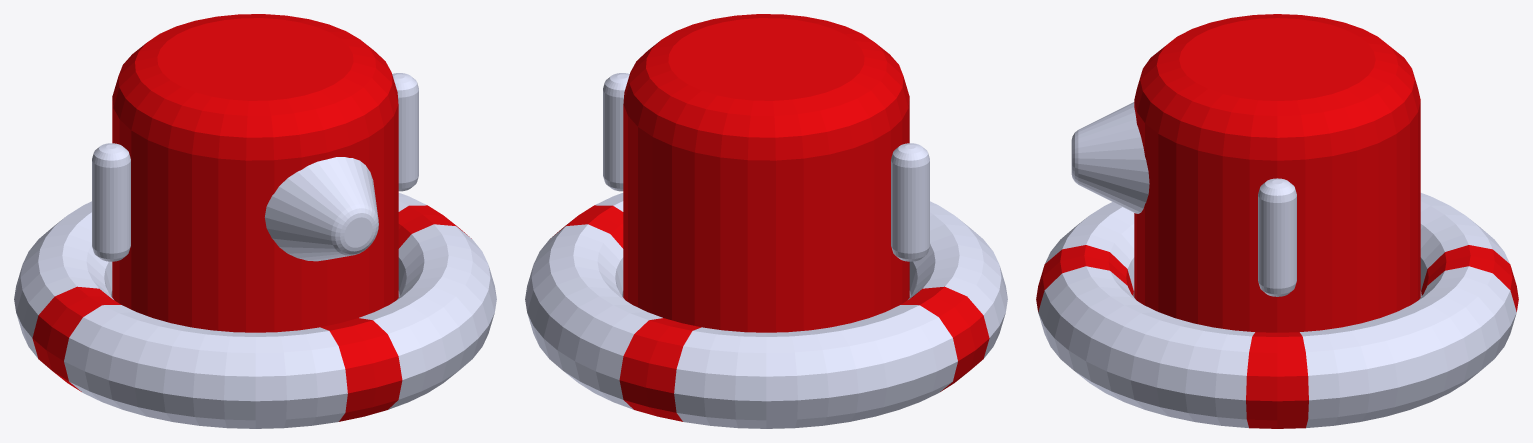
The model's file is test_enemy.glb.
3 views of the same model, side by side, from view 1: azimuth 30°, elevation 25°; view 2: azimuth 150°, elevation 25°; view 3: azimuth 270°, elevation 25° (orthographic).
Visible parts, largest first — view 1: Cylinder, Torus, Cylinder.002, Cylinder.001; view 2: Cylinder, Torus, Cylinder.002, Cylinder.001; view 3: Cylinder, Torus, Cylinder.001.
Boxes of the visible parts, bbox=[...] form: Cylinder: bbox=[112, 14, 398, 332]; Torus: bbox=[14, 193, 496, 428]; Cylinder.002: bbox=[92, 143, 130, 261]; Cylinder.001: bbox=[392, 73, 418, 191]; Cylinder: bbox=[623, 14, 909, 332]; Torus: bbox=[525, 193, 1007, 428]; Cylinder.002: bbox=[891, 143, 929, 261]; Cylinder.001: bbox=[603, 73, 629, 191]; Cylinder: bbox=[1071, 14, 1420, 332]; Torus: bbox=[1036, 193, 1518, 428]; Cylinder.001: bbox=[1258, 178, 1296, 296].
Bounding box in the file's own units: 2.5 × 1.62 × 2.5.
